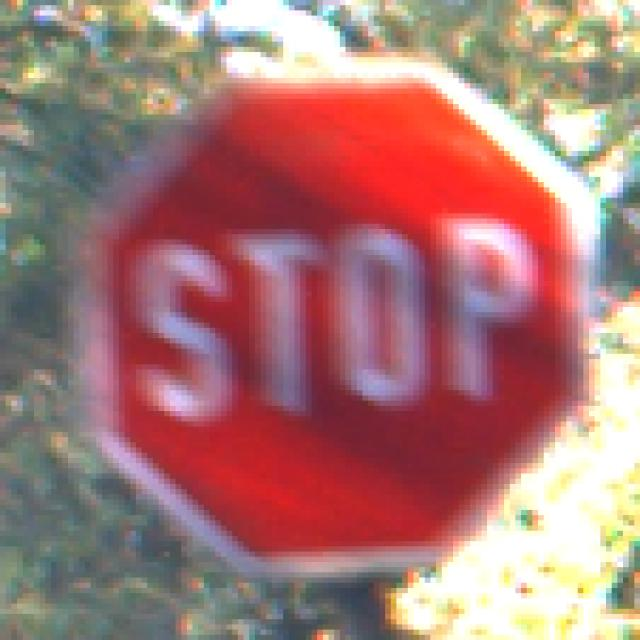STOP: (58, 53, 584, 584)
